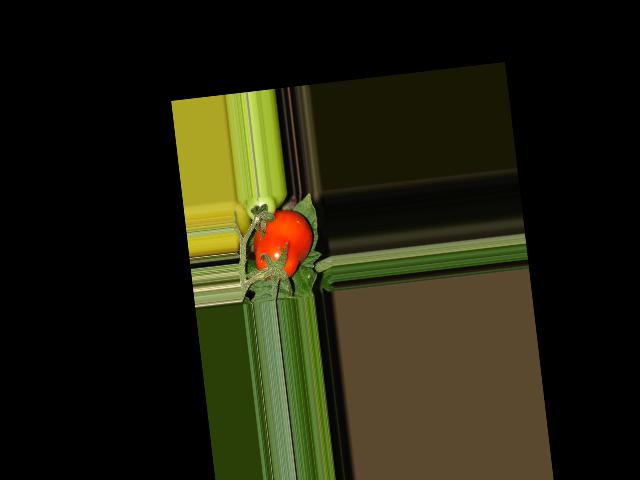tomato: (250, 207, 317, 282)
